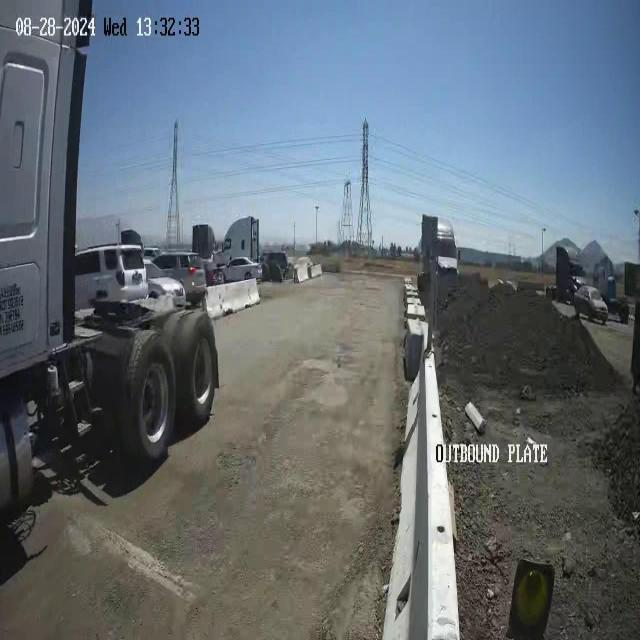TRUCK_OUT: (1, 1, 220, 507)
